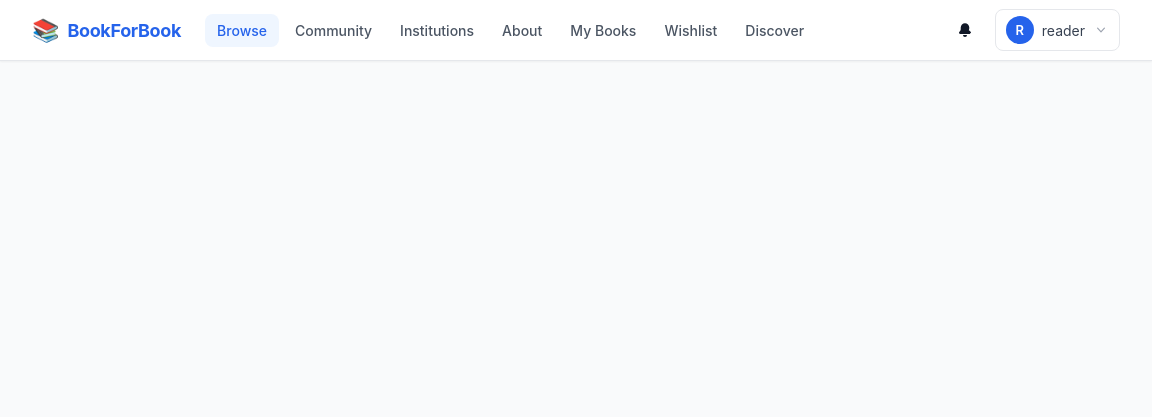
Test: Navbar › closes dropdown on Escape key
Click the button "R reader" at coordinates (1057, 30), box [995, 9, 1120, 51]
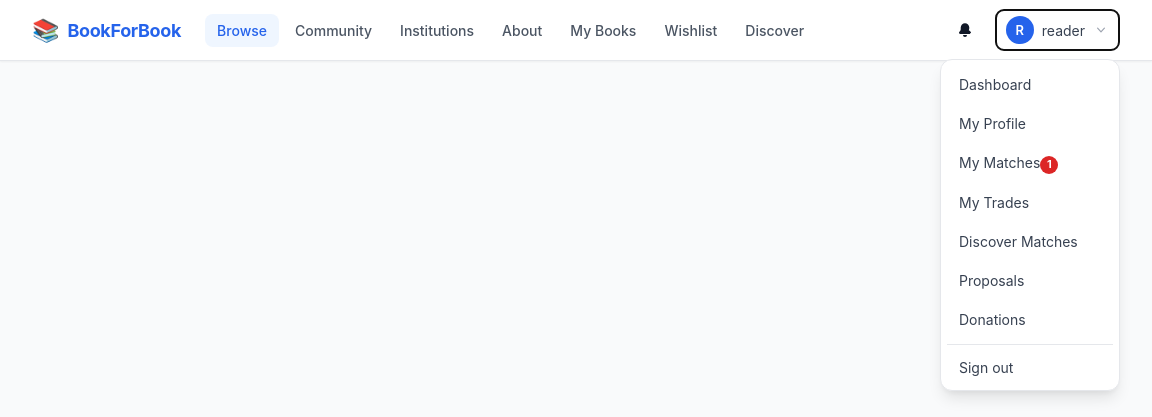
expect the link "Dashboard" is shown: met, box [959, 76, 1031, 93]
Press Escape
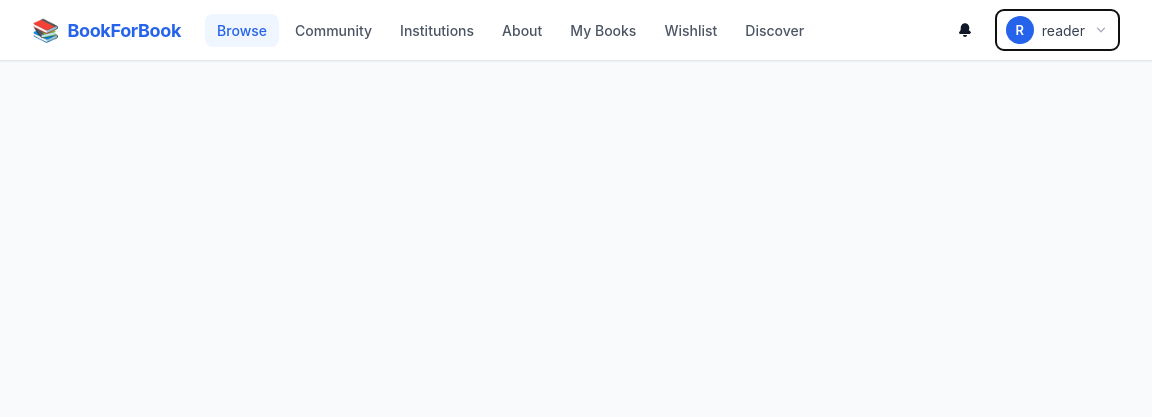
expect the link "My Profile" is gone: met
